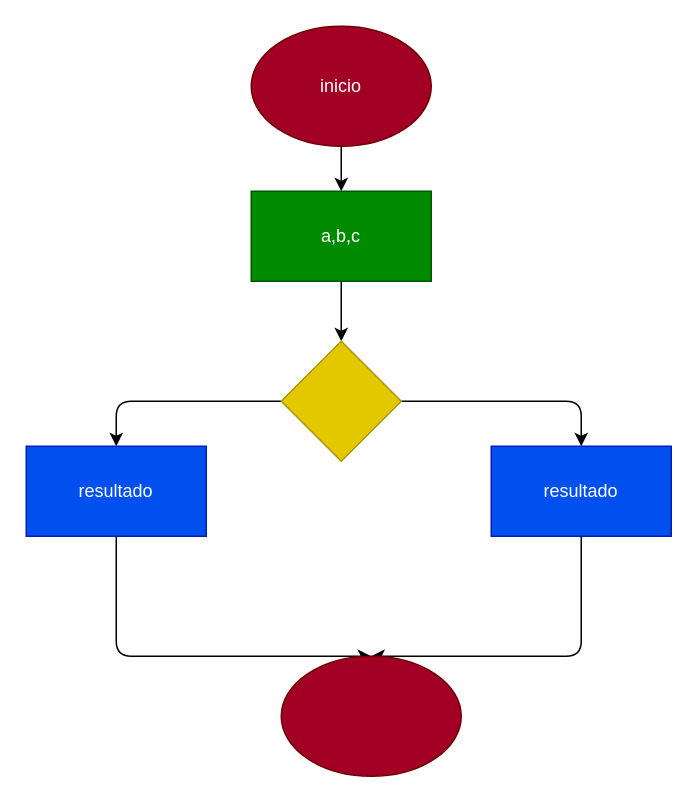
The diagram is 698 pixels wide and 803 high, and some of its shapes have lost their labels. The shapes that lost their labels are listed below. From the top down, each one's centre as x and y in pixels, then its label:
(x=340, y=400): a+b=c
(x=370, y=715): fin
